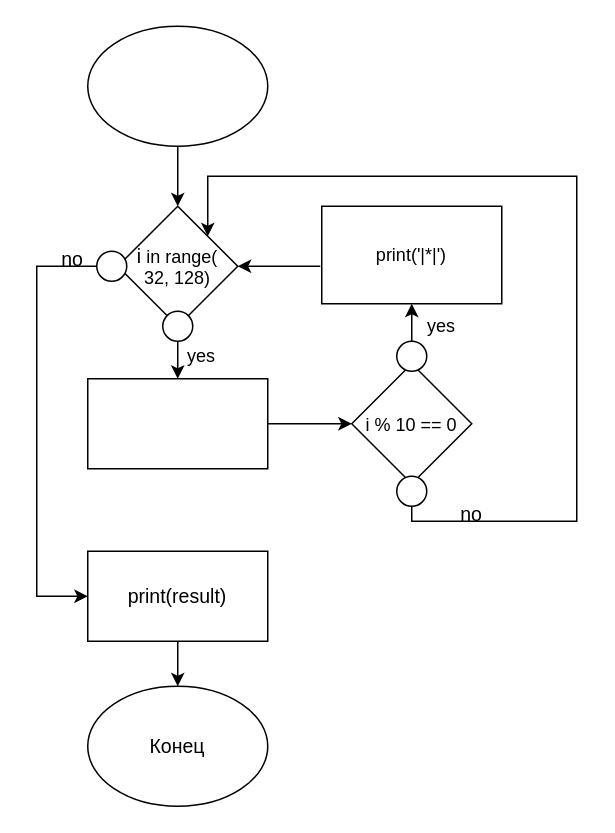
This 615x833 diagram has some shape labels left out. The shapes that lost their labels are listed below. From the top down, each one's box as (x1, y1, x2, y2) in pixels, then its label:
(86, 25, 268, 146): Начало
(86, 377, 268, 469): print(i, chr(i), end='')
